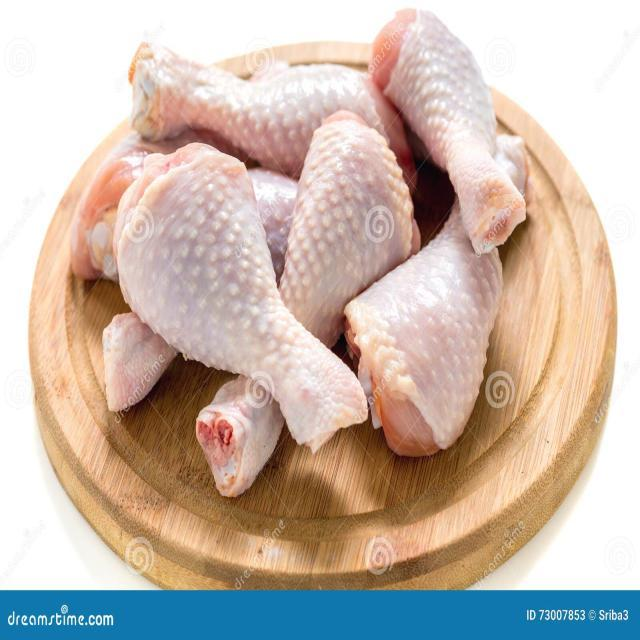leg: (119, 146, 362, 440), (211, 112, 397, 470), (367, 142, 534, 446), (126, 42, 406, 176), (375, 0, 521, 240), (56, 156, 296, 272)
